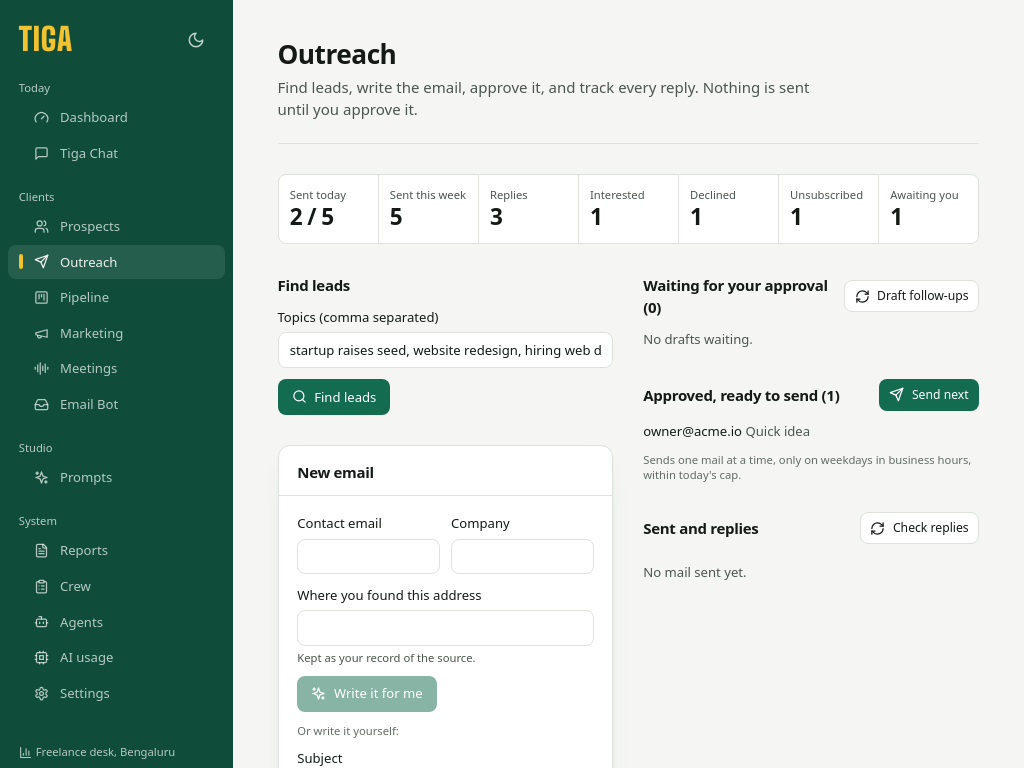
Test: Outreach › surfaces a refusal from the server
Click the button "Send next": click(929, 395) [879,379,979,411]
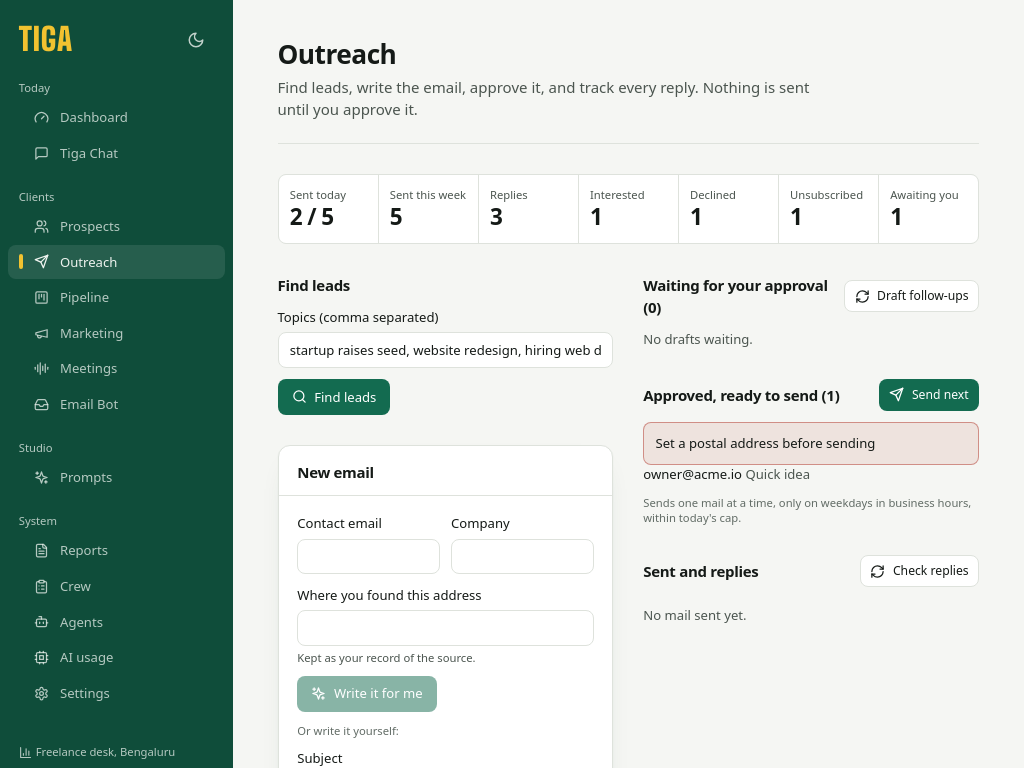
Now the message shows "postal address", box [656,434,875,452]
